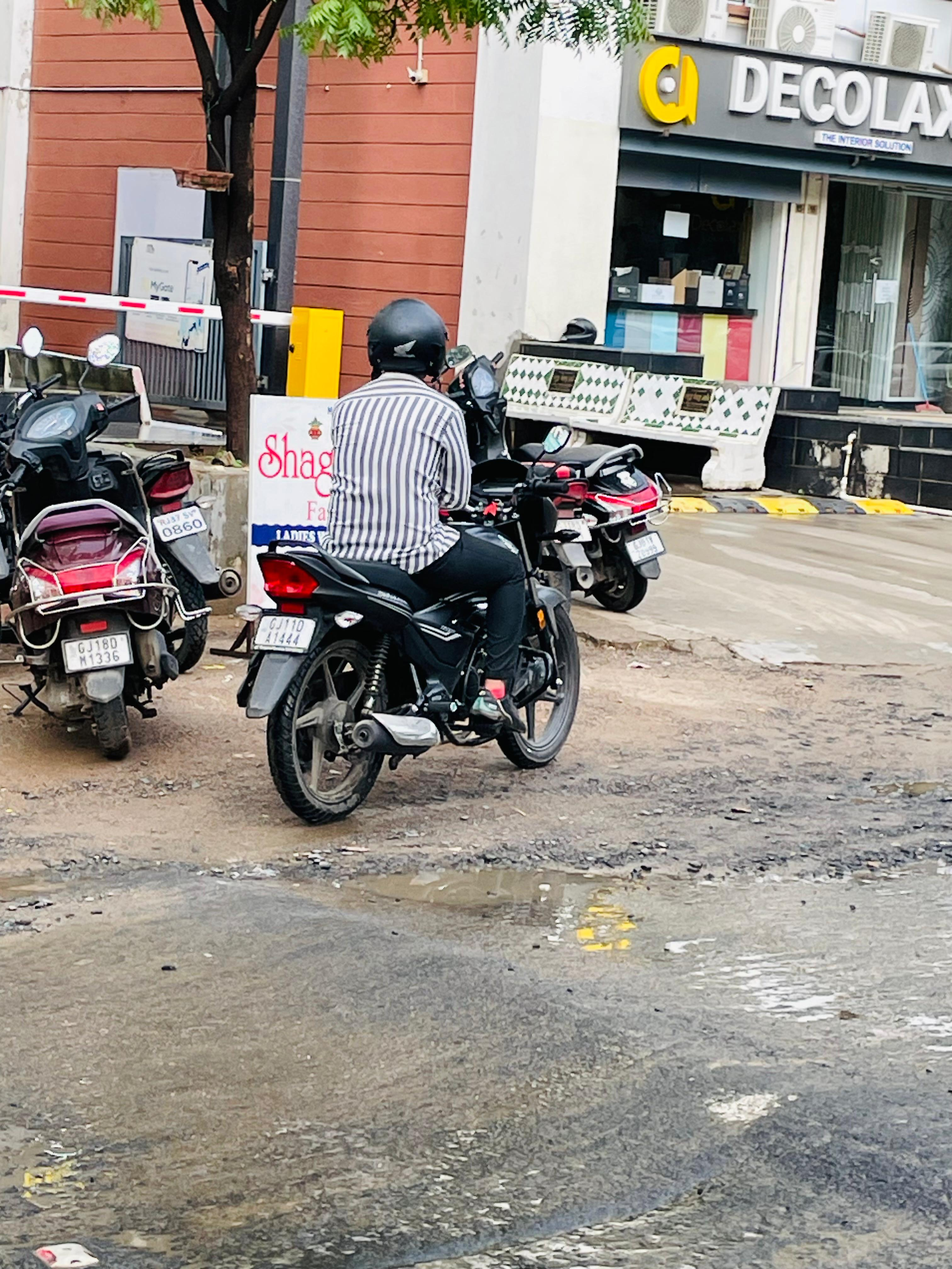BikeWithRider: (222, 288, 597, 833)
Helmet: (355, 289, 461, 390)
